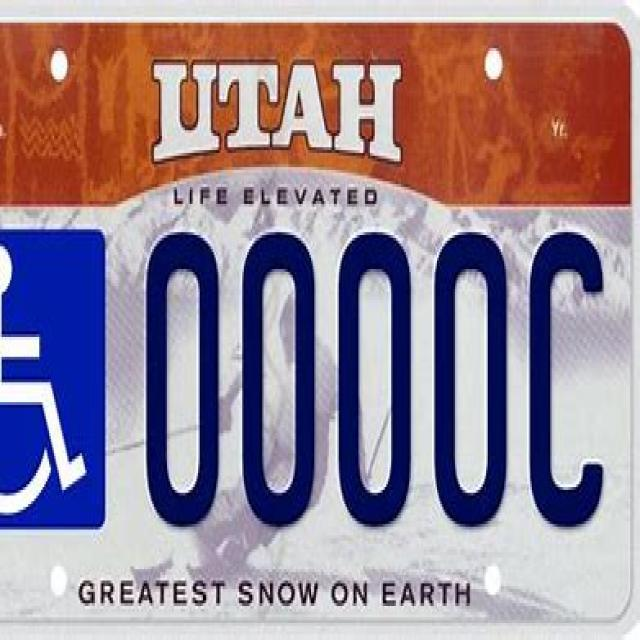symbol_of_access: (0, 242, 90, 514)
